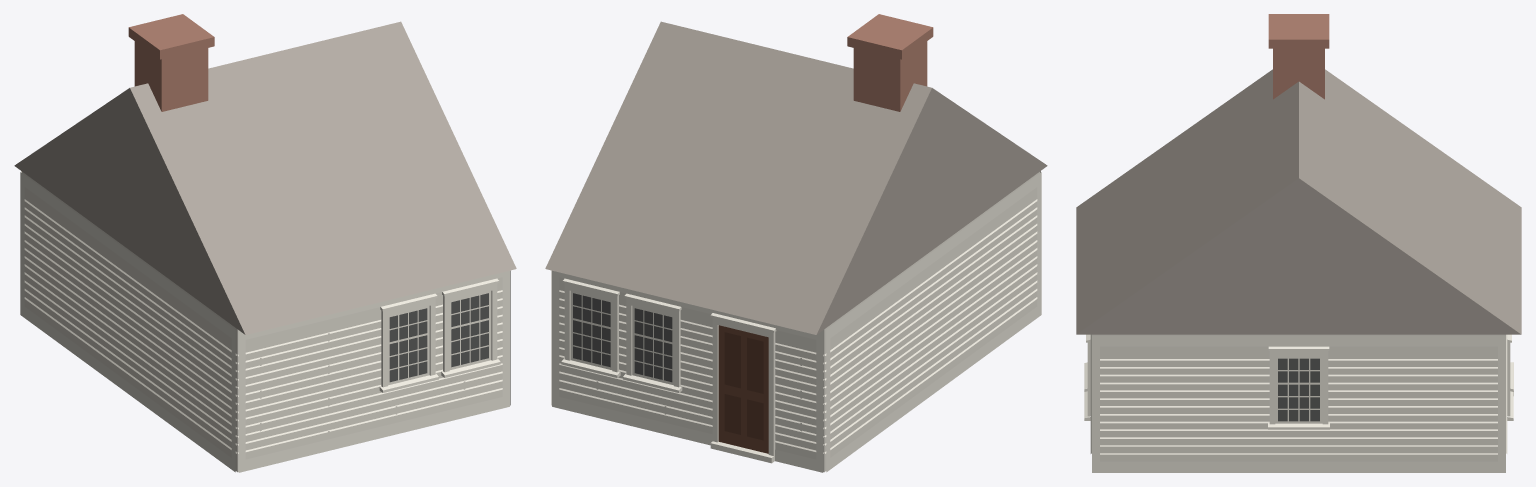
The model's file is recon_1835_west_002__inferred_1835.glb.
3 views of the same model, side by side, from view 1: azimuth 30°, elevation 25°; view 2: azimuth 150°, elevation 25°; view 3: azimuth 270°, elevation 25° (orthographic). The views are drawn at different scales.
Visible parts, largest first — view 1: recon_1835_west_002__inferred_1835; view 2: recon_1835_west_002__inferred_1835; view 3: recon_1835_west_002__inferred_1835.
Boxes of the visible parts, x1,y1,x2,y2 form: recon_1835_west_002__inferred_1835: (14,14,516,472); recon_1835_west_002__inferred_1835: (545,14,1047,472); recon_1835_west_002__inferred_1835: (1076,14,1521,472).
Bounding box in the file's own units: 5.03 × 6.03 × 7.21.
